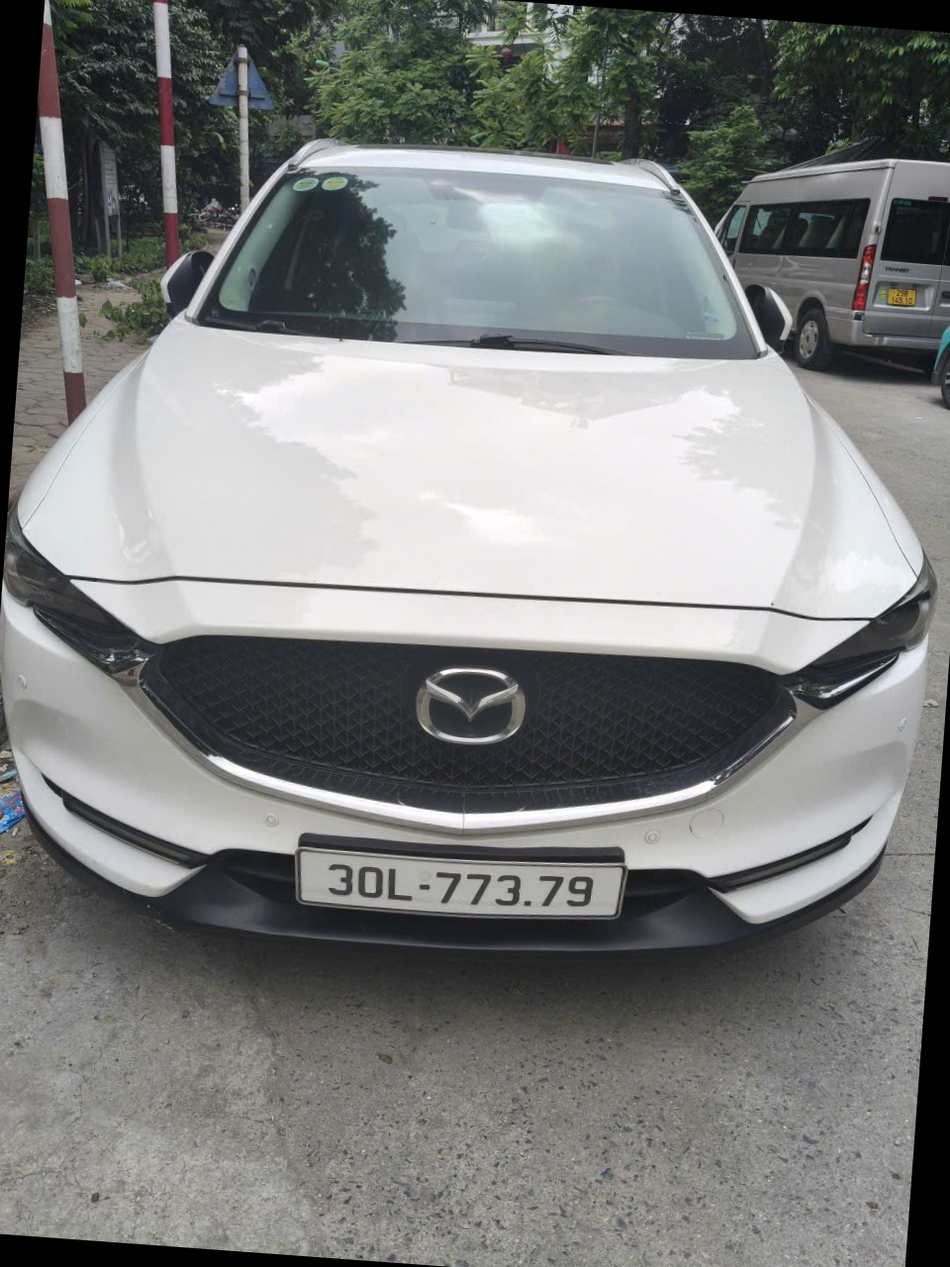plate: (867, 31, 950, 78)
